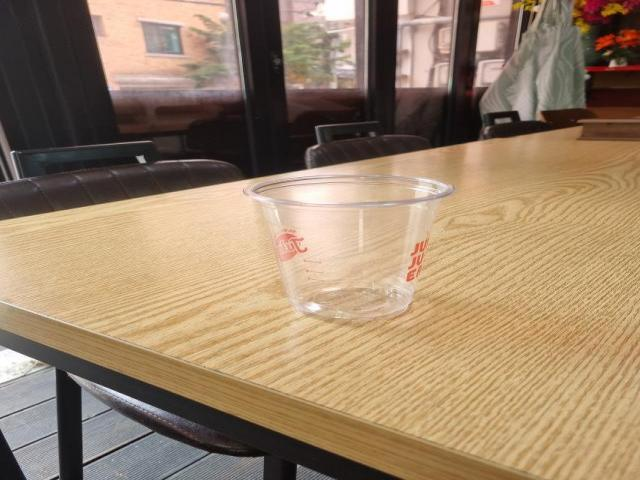cup: (237, 170, 464, 324)
